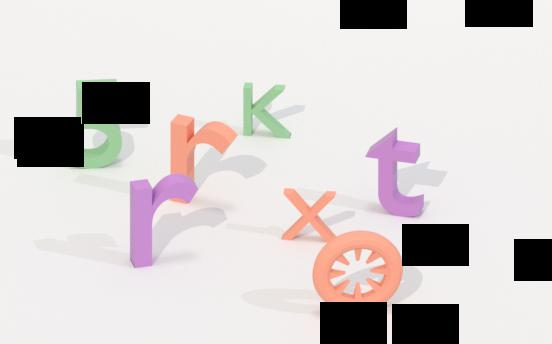5: (64, 75, 126, 172)
R: (127, 172, 200, 270), (165, 111, 240, 206)
k: (242, 78, 295, 144)
t: (364, 122, 429, 219)
tron: (311, 228, 405, 315)
x: (280, 182, 343, 248)
